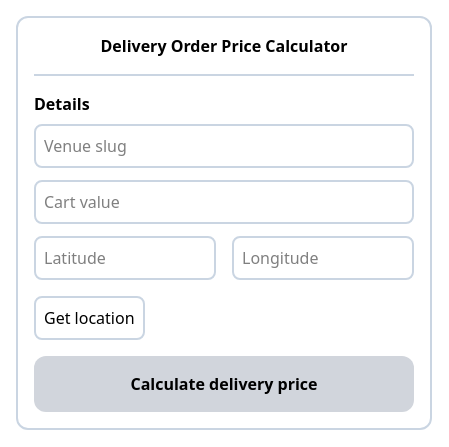
Test: tests for the App › calculate delivery price is enabled when input is valid
The width and height of the screenshot is (449, 447).
Type "test-venue" into the field with placeholder "Venue slug".
click(224, 146); type("test-venue")  # box x1=34 y1=124 x2=414 y2=168
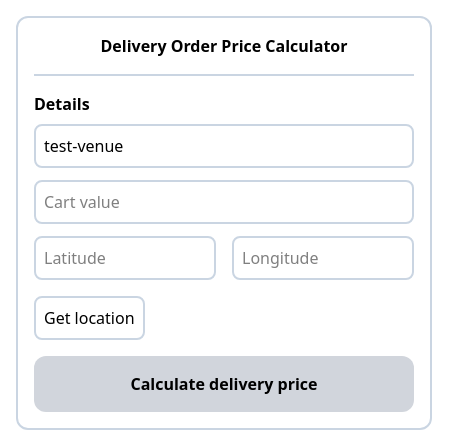
Type "50.13" into the number field with placeholder "Cart value".
click(224, 202); type("50.13")  # box x1=34 y1=180 x2=414 y2=224
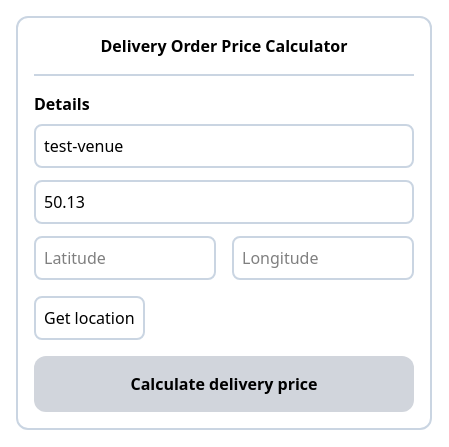
Type "60.201" into the field with placeholder "Latitude".
click(125, 258); type("60.201")  # box x1=34 y1=236 x2=216 y2=280
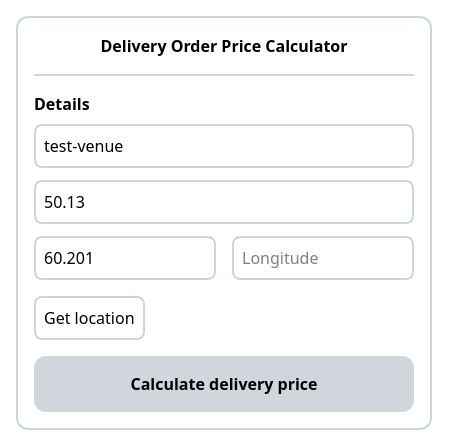
Type "24.941" into the field with placeholder "Longitude".
click(323, 258); type("24.941")  # box x1=232 y1=236 x2=414 y2=280
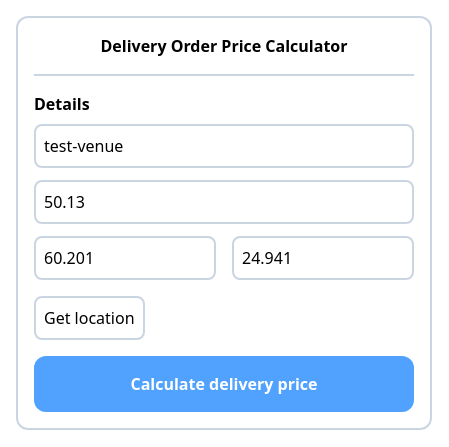
Check: the button "Calculate delivery price" is enabled, box x1=34 y1=356 x2=414 y2=412
